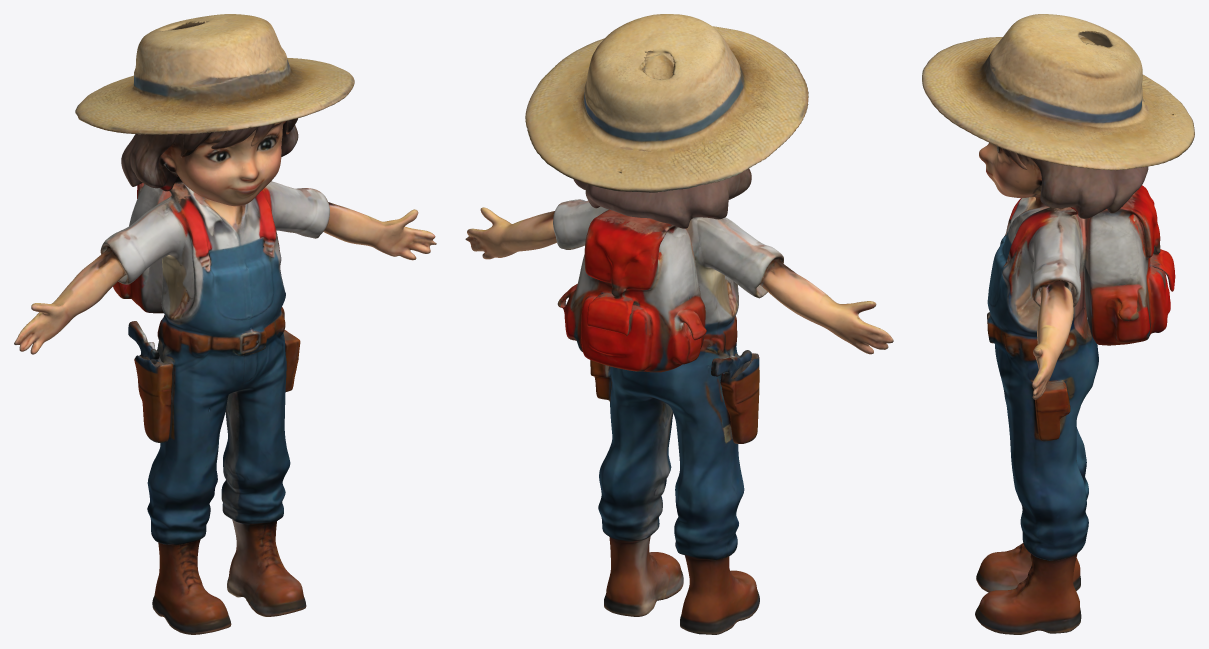
Rendered from Farm_girl.fbx.
3 views of the same model, side by side, from view 1: azimuth 30°, elevation 25°; view 2: azimuth 150°, elevation 25°; view 3: azimuth 270°, elevation 25° (orthographic).
Visible parts, largest first — view 1: Mesh1_Mesh1.003; view 2: Mesh1_Mesh1.003; view 3: Mesh1_Mesh1.003.
Part boxes in pixels (left/top/right/bottom): Mesh1_Mesh1.003: left=14, top=14, right=436, bottom=634; Mesh1_Mesh1.003: left=465, top=14, right=893, bottom=634; Mesh1_Mesh1.003: left=922, top=14, right=1194, bottom=634.
Bounding box in the file's own units: 153 × 200 × 85.74.
1 material, 1 textured.
